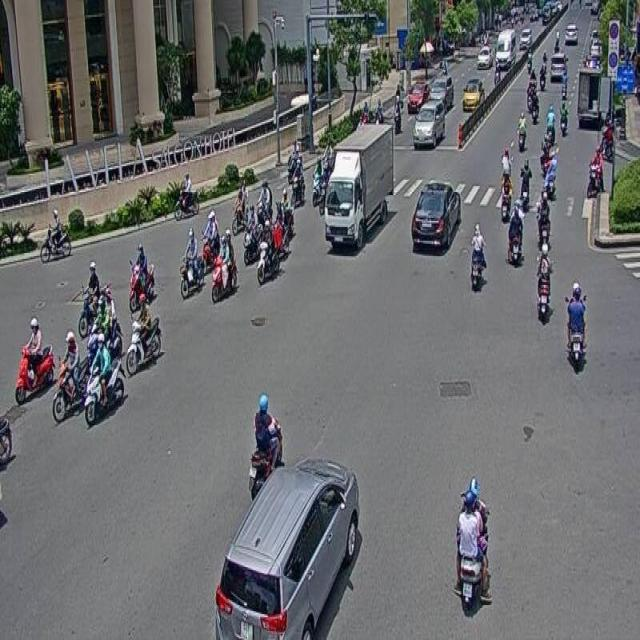car: (215, 457, 362, 640), (411, 180, 462, 256)
motorcycle: (453, 475, 492, 611), (52, 326, 90, 424), (84, 334, 124, 424), (126, 289, 166, 376), (249, 394, 283, 496), (13, 317, 51, 399), (566, 279, 588, 373), (210, 226, 237, 302), (128, 238, 155, 312), (179, 224, 204, 297), (256, 216, 280, 285), (535, 242, 554, 328), (242, 201, 265, 267), (198, 207, 220, 273), (469, 220, 487, 296), (506, 195, 524, 268)
truck: (326, 117, 392, 256)
